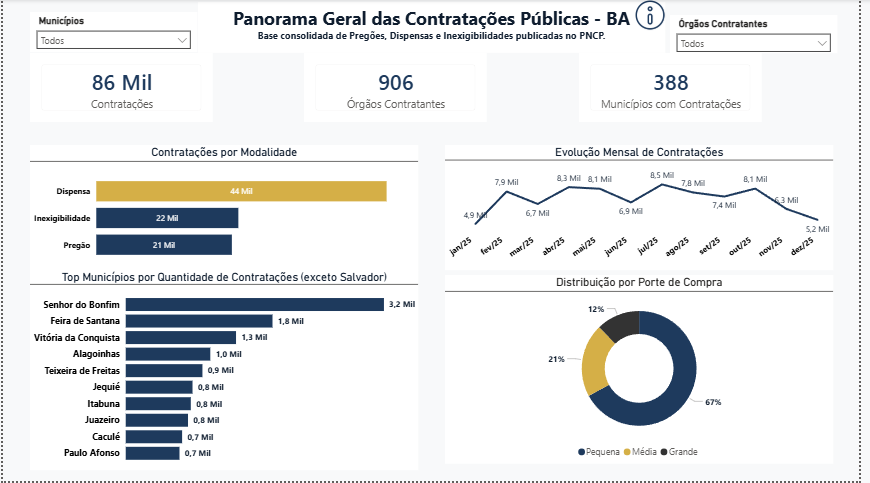

Layout of this report page (visuals, bound fields, positions):
{"tool":"powerbi","page":{"name":"Panorama Geral","canvas":[1280,720],"ordinal":0},"visuals":[{"type":"cardVisual","fields":{"Data":["Medidas.Total de Contratações"]},"box":[40,80,273.4,103.1],"z":0},{"type":"textbox","box":[291.2,4.5,697.6,76.2],"z":1000},{"type":"cardVisual","fields":{"Data":["Medidas.Total de Órgãos Analisados"]},"box":[450,80,273.4,103.1],"z":2000},{"type":"cardVisual","fields":{"Data":["Medidas.Total de Municipios"]},"box":[860,80,273.4,103.1],"z":3000},{"type":"barChart","title":"Contratações por Modalidade","fields":{"Y":["Medidas.Total de Contratações"],"Category":["public Contrataces.modalidadeNome"]},"box":[40.3,218.1,580,186.7],"z":4000},{"type":"barChart","title":"Top Municípios por Quantidade de Contratações (exceto Salvador)","fields":{"Category":["public Contrataces.municipioNome"],"Y":["Medidas.Total de Contratações"]},"box":[40.3,404.4,580,298.8],"z":5000},{"type":"donutChart","title":"Distribuição por Porte de Compra","fields":{"Category":["public Contrataces.porte_compra"],"Y":["CountNonNull(public Contrataces.porte_compra)"]},"box":[660,412.7,580,282.3],"z":6000},{"type":"lineChart","title":"Evolução Mensal de Contratações","fields":{"Y":["Medidas.Total de Contratações"],"Category":["public Contrataces.ano_mes_publicacao"]},"box":[660,218.1,580,186.7],"z":7000},{"type":"slicer","fields":{"Values":["public Contrataces.municipioNome"]},"box":[40,20,250,60],"z":8000},{"type":"slicer","fields":{"Values":["public Contrataces.razaoSocial"]},"box":[996.7,23.3,250,56.7],"z":9000},{"type":"image","box":[933.6,0,65.7,47.8],"z":10000},{"type":"cardVisual","fields":{"Data":["Medidas.% SRP"]},"box":[933.6,0,65.7,52.3],"z":11000}]}

Visuals, with their boxes in screenshot pixels (x1, y1, x2, y2), scaled from the page's 1280x720 canvas onto the 870x483 screenshot:
cardVisual - Medidas.Total de Contratações: [x1=27, y1=54, x2=213, y2=123]
textbox: [x1=198, y1=3, x2=672, y2=54]
cardVisual - Medidas.Total de Órgãos Analisados: [x1=306, y1=54, x2=492, y2=123]
cardVisual - Medidas.Total de Municipios: [x1=585, y1=54, x2=770, y2=123]
"Contratações por Modalidade" barChart: [x1=27, y1=146, x2=422, y2=272]
"Top Municípios por Quantidade de Contratações (exceto Salvador)" barChart: [x1=27, y1=271, x2=422, y2=472]
"Distribuição por Porte de Compra" donutChart: [x1=449, y1=277, x2=843, y2=466]
"Evolução Mensal de Contratações" lineChart: [x1=449, y1=146, x2=843, y2=272]
slicer - public Contrataces.municipioNome: [x1=27, y1=13, x2=197, y2=54]
slicer - public Contrataces.razaoSocial: [x1=677, y1=16, x2=847, y2=54]
image: [x1=635, y1=0, x2=679, y2=32]
cardVisual - Medidas.% SRP: [x1=635, y1=0, x2=679, y2=35]
